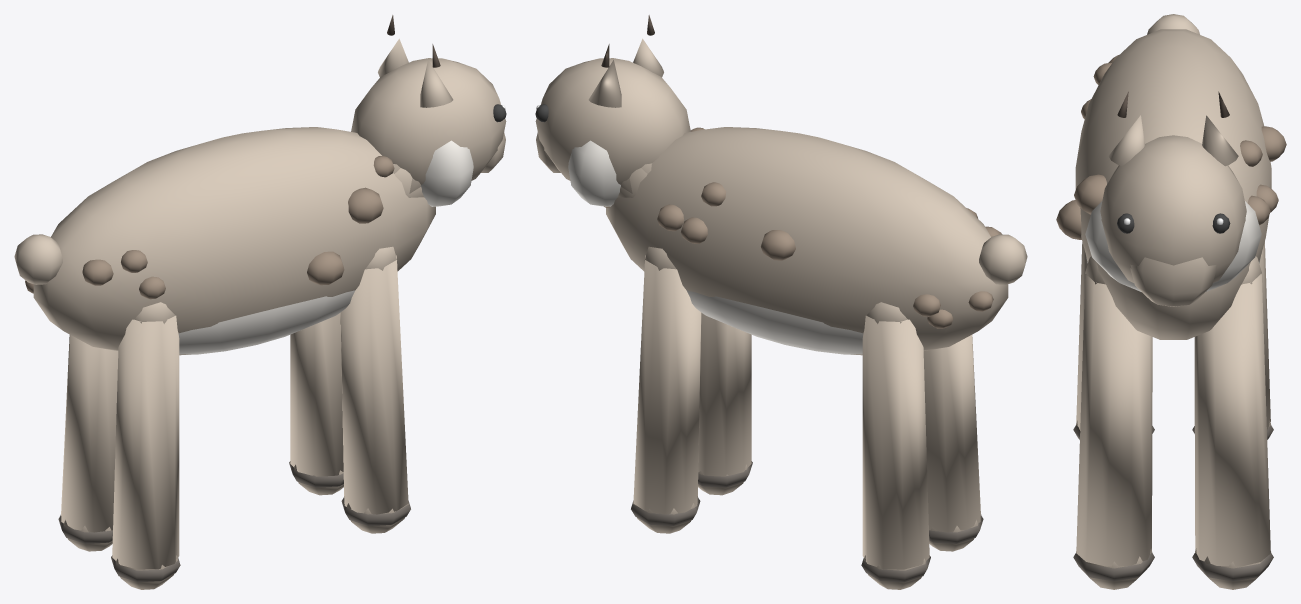
File: lynx.glb
The picture shows the model from 3 angles, left to right: view 1: azimuth 30°, elevation 25°; view 2: azimuth 150°, elevation 25°; view 3: azimuth 270°, elevation 25°; orthographic projection. The views are drawn at different scales.
Parts seen in each view (by area): view 1: e, cone, e.040; view 2: e, cone, e.040; view 3: e, cone, e.040.
Boxes of the visible parts, x1,y1,x2,y2 form: e: (25,127,435,589); cone: (351,15,506,206); e.040: (14,234,62,284); e: (604,127,1008,589); cone: (535,15,690,206); e.040: (979,234,1027,284); e: (1056,29,1286,589); cone: (1085,91,1261,306); e.040: (1147,14,1199,34).
Bounding box in the file's own units: 1.02 × 0.9446 × 0.3721.
